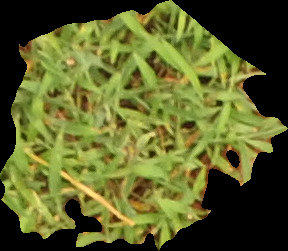grass: (1, 1, 287, 250)
